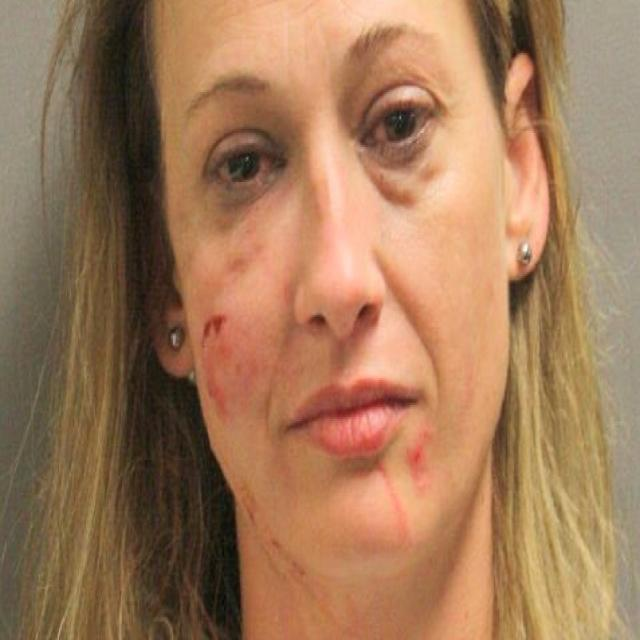human: (38, 7, 640, 636)
